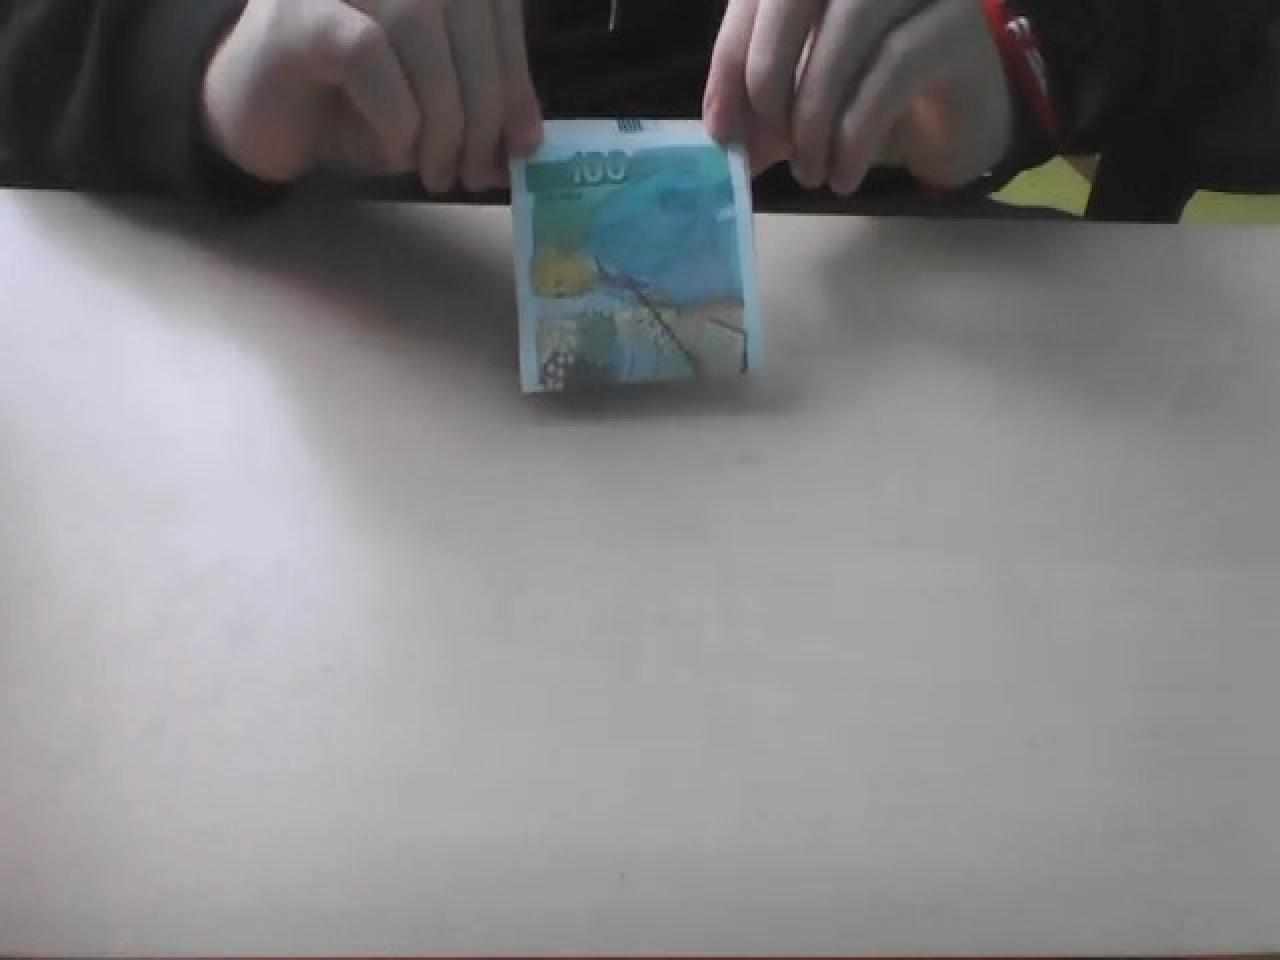100leva: (512, 117, 760, 394)
